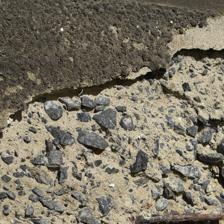Crack: (4, 22, 220, 109)
